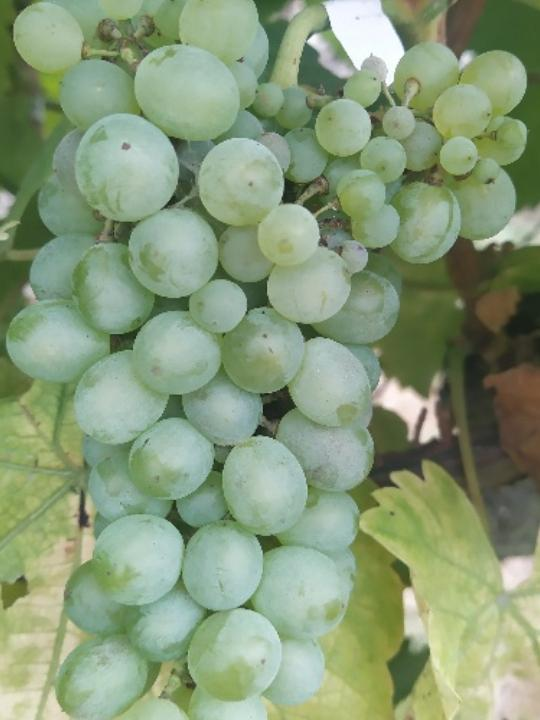grape: (0, 0, 532, 720)
